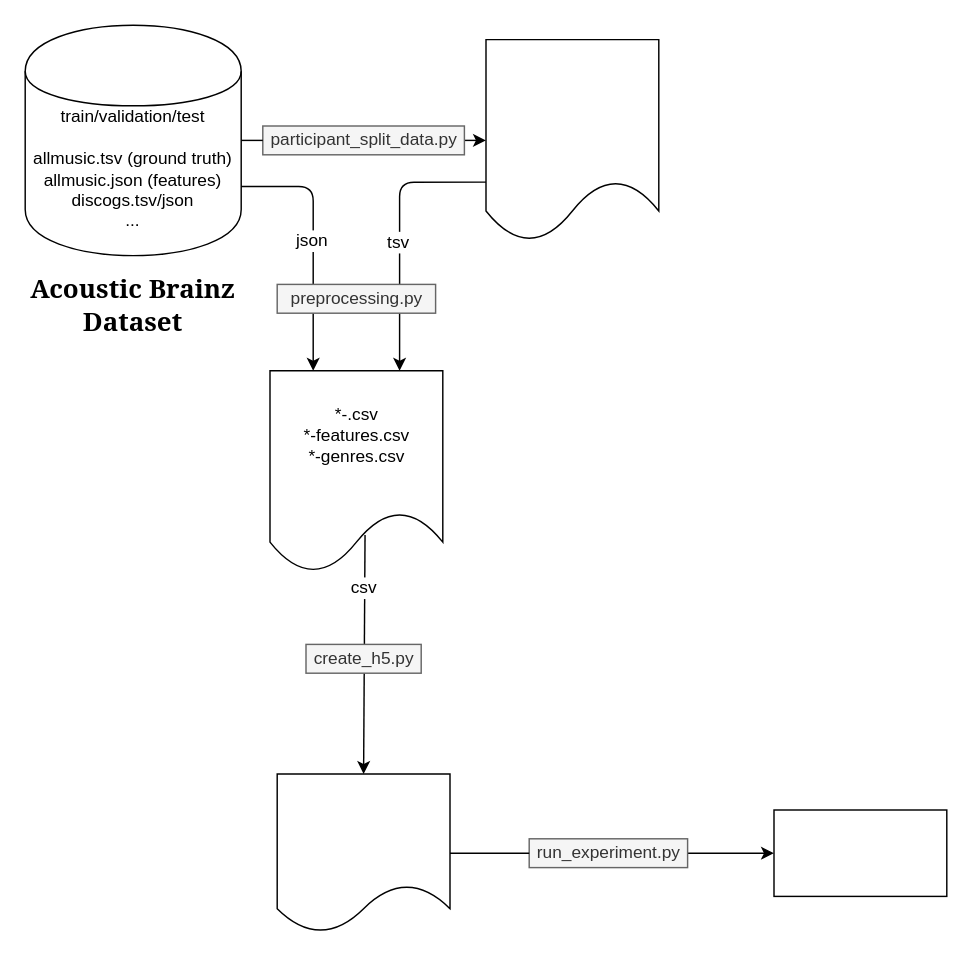
The diagram is 972 pixels wide and 958 high, and some of its shapes have lost their labels. The shapes that lost their labels are listed below. From the top down, each one's centre as x and y in pixels, then its label:
At (572,139): "*-train-train.tsv *-train-test.tsv *-validation.tsv".
At (363,852): "*.npy (h5) *.tsv (item-index)".
At (860,852): "trained model training metrics".
